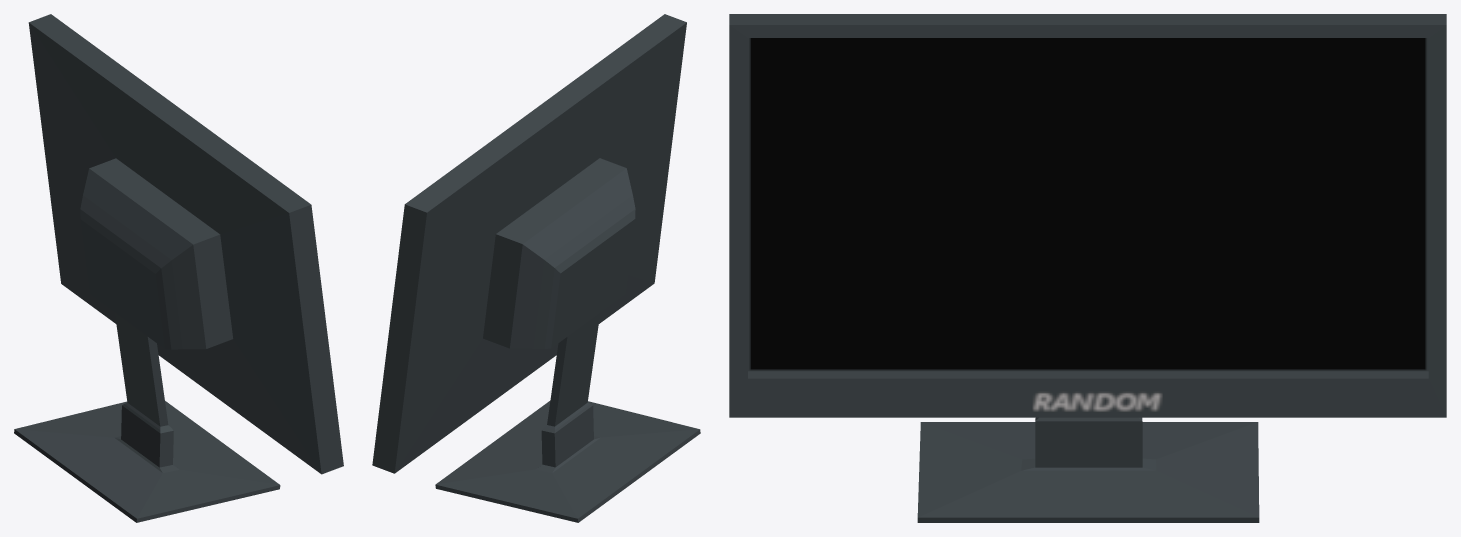
File: display.fbx
3 renders of one model, left to right at view 1: azimuth 30°, elevation 25°; view 2: azimuth 150°, elevation 25°; view 3: azimuth 270°, elevation 25°, orthographic. The views are drawn at different scales.
Parts seen in each view (by area): view 1: Cube; view 2: Cube; view 3: Cube.
Part boxes in pixels (left/top/right/bottom): Cube: left=14, top=14, right=343, bottom=522; Cube: left=372, top=14, right=700, bottom=522; Cube: left=729, top=14, right=1446, bottom=522.
Size of the model in its own units: 187 by 431 by 591.
Materials: 1 (1 with a texture image).
